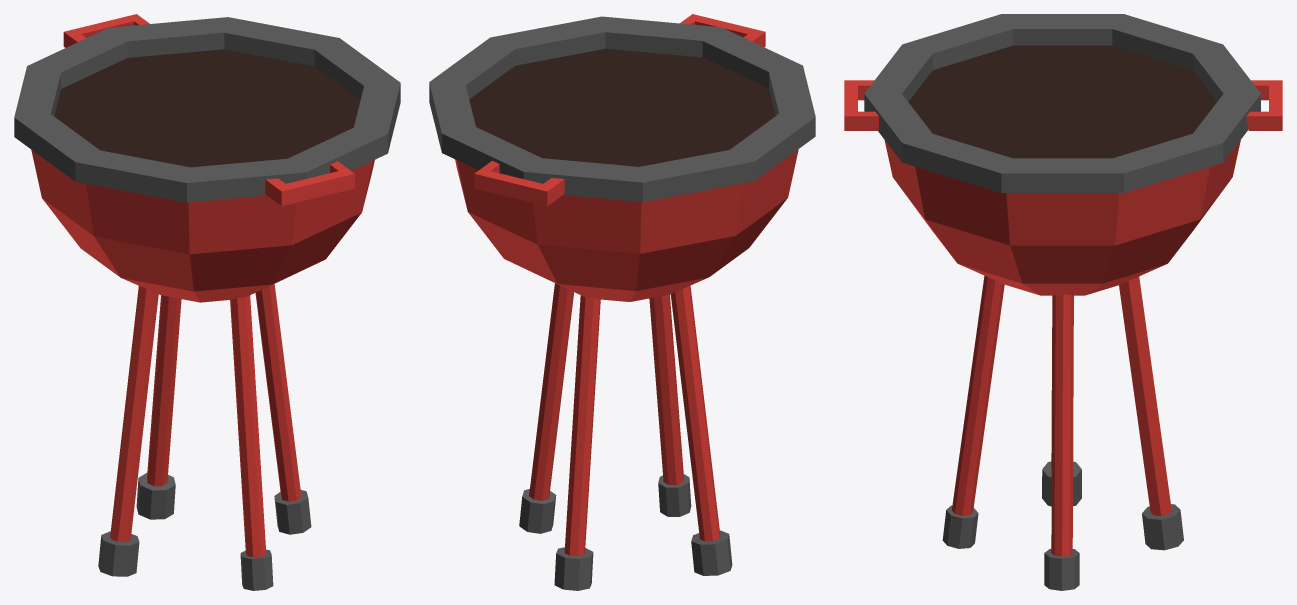
The model's file is BBQ.fbx.
3 renders of one model, left to right at view 1: azimuth 30°, elevation 25°; view 2: azimuth 150°, elevation 25°; view 3: azimuth 270°, elevation 25°, orthographic.
Visible parts, largest first — view 1: Sphere.095; view 2: Sphere.095; view 3: Sphere.095.
Boxes of the visible parts, <box> form: Sphere.095: <box>14,14,400,590</box>; Sphere.095: <box>429,14,815,590</box>; Sphere.095: <box>844,14,1282,590</box>.
Size of the model in its own units: 141 by 186 by 164.
